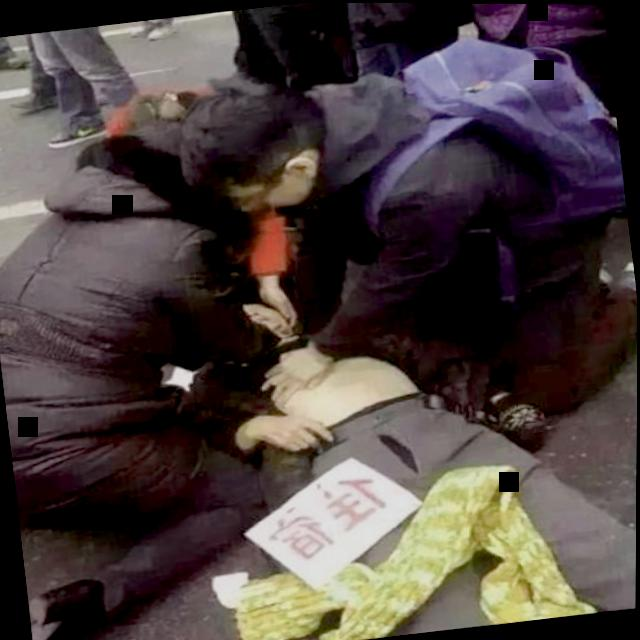Fall-Detected: (161, 212, 639, 640)
